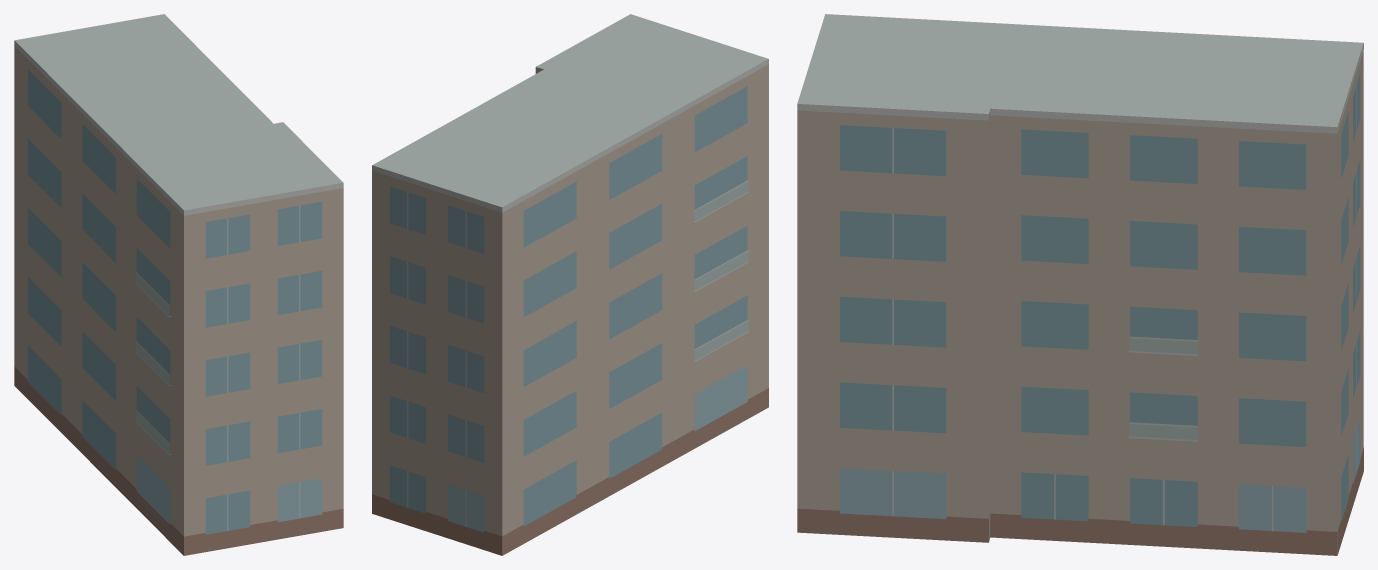
File: survey-upis-32574193.glb
3 views of the same model, side by side, from view 1: azimuth 30°, elevation 25°; view 2: azimuth 150°, elevation 25°; view 3: azimuth 270°, elevation 25° (orthographic). The views are drawn at different scales.
Parts seen in each view (by area): view 1: survey-upis-32574193.tmp; view 2: survey-upis-32574193.tmp; view 3: survey-upis-32574193.tmp.
Part boxes in pixels (bbox=[...]): survey-upis-32574193.tmp: bbox=[14, 14, 343, 555]; survey-upis-32574193.tmp: bbox=[372, 14, 768, 555]; survey-upis-32574193.tmp: bbox=[797, 14, 1363, 555].
Size of the model in its own units: 9.01 by 15.9 by 19.05.
